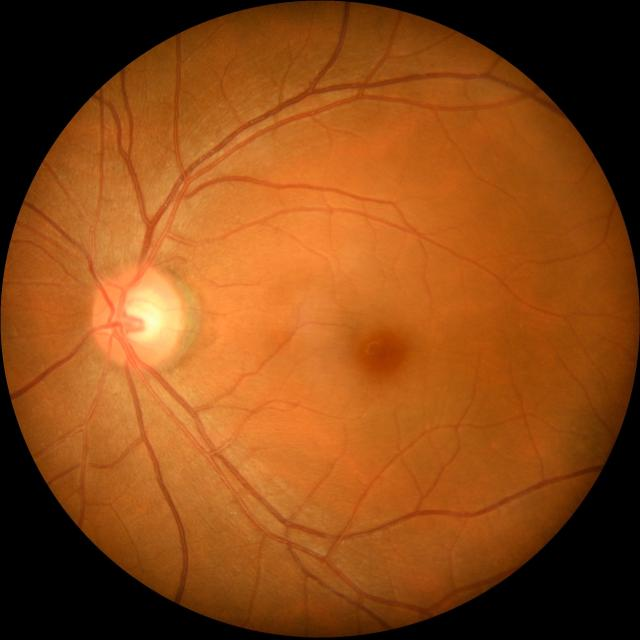OC: (120, 288, 164, 342)
OD: (94, 266, 179, 368)
